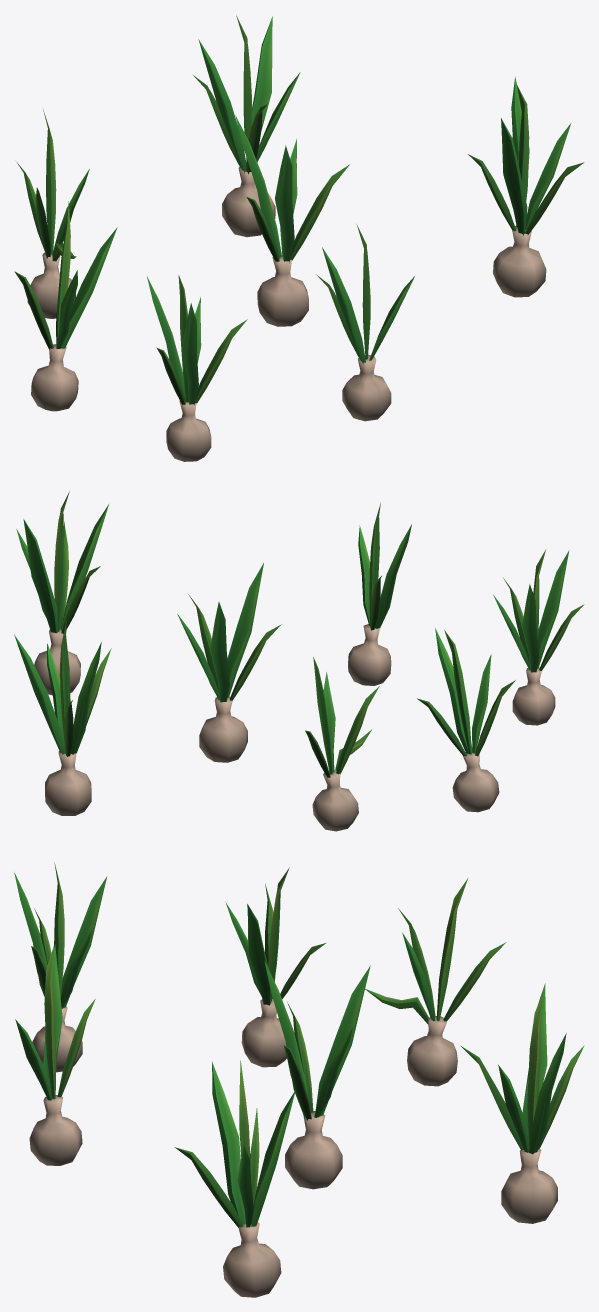
File: SM_Plant_Onion_Lv3.fbx
The picture shows the model from 3 angles, top to bottom: view 1: azimuth 30°, elevation 25°; view 2: azimuth 150°, elevation 25°; view 3: azimuth 270°, elevation 25°; orthographic projection. The views are drawn at different scales.
Parts seen in each view (by area): view 1: SM_Plant_Onion_Lv3; view 2: SM_Plant_Onion_Lv3; view 3: SM_Plant_Onion_Lv3.
Part boxes in pixels (left/top/right/bottom): SM_Plant_Onion_Lv3: left=14, top=15, right=584, bottom=461; SM_Plant_Onion_Lv3: left=14, top=491, right=584, bottom=831; SM_Plant_Onion_Lv3: left=14, top=863, right=584, bottom=1297.
Bounding box in the file's own units: 70.41 × 27.61 × 59.34.
